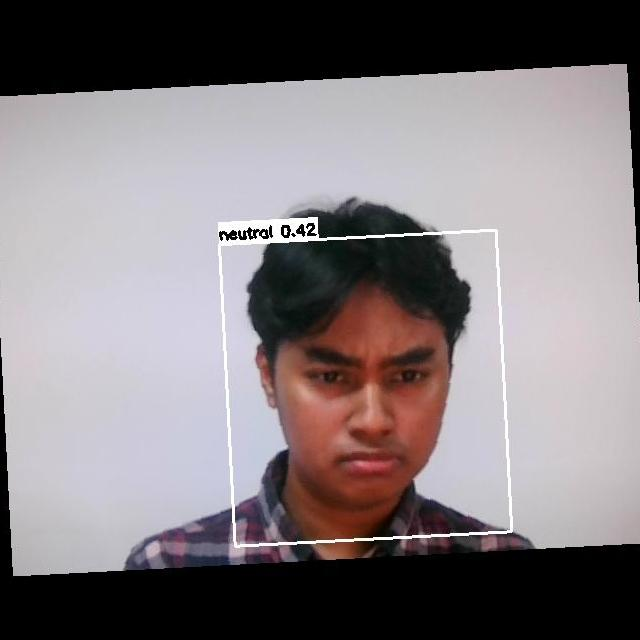Angry: (282, 318, 466, 494)
